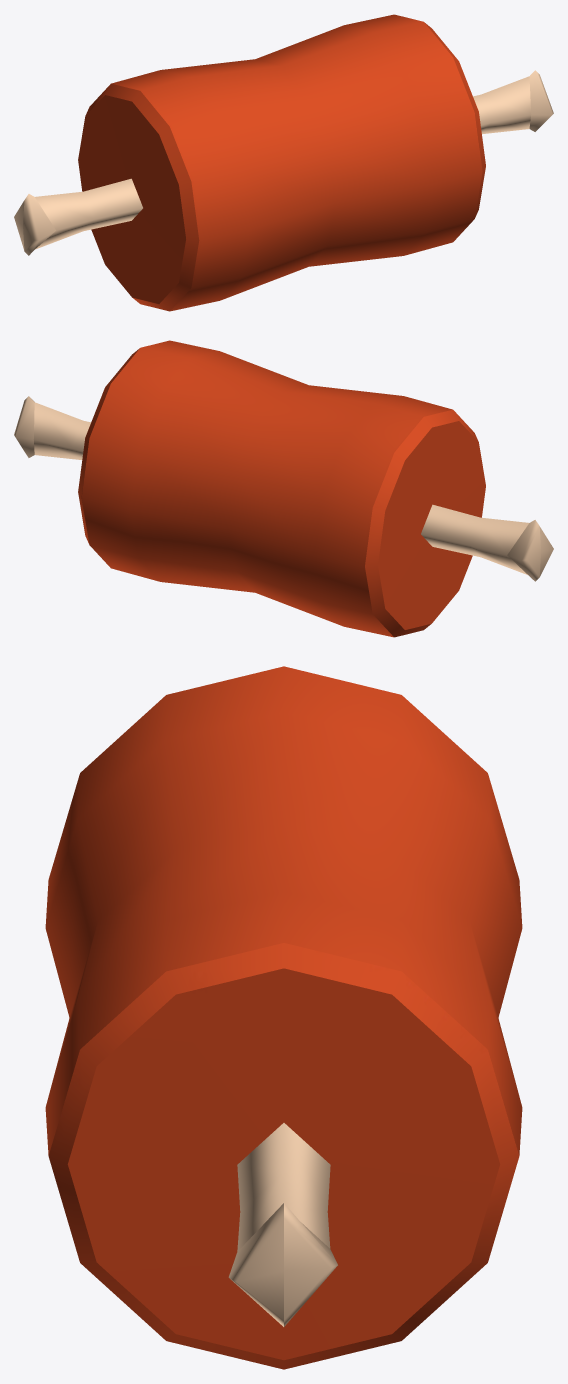
File: Chicken_Mesh.fbx
3 renders of one model, top to bottom at view 1: azimuth 30°, elevation 25°; view 2: azimuth 150°, elevation 25°; view 3: azimuth 270°, elevation 25°, orthographic. The views are drawn at different scales.
Parts seen in each view (by area): view 1: Chicken_Mesh; view 2: Chicken_Mesh; view 3: Chicken_Mesh.
Part boxes in pixels (x1=…): Chicken_Mesh: x1=14, y1=14, x2=553, y2=311; Chicken_Mesh: x1=14, y1=340, x2=553, y2=637; Chicken_Mesh: x1=45, y1=666, x2=522, y2=1369.
Size of the model in its own units: 11.77 by 4.68 by 4.68.
